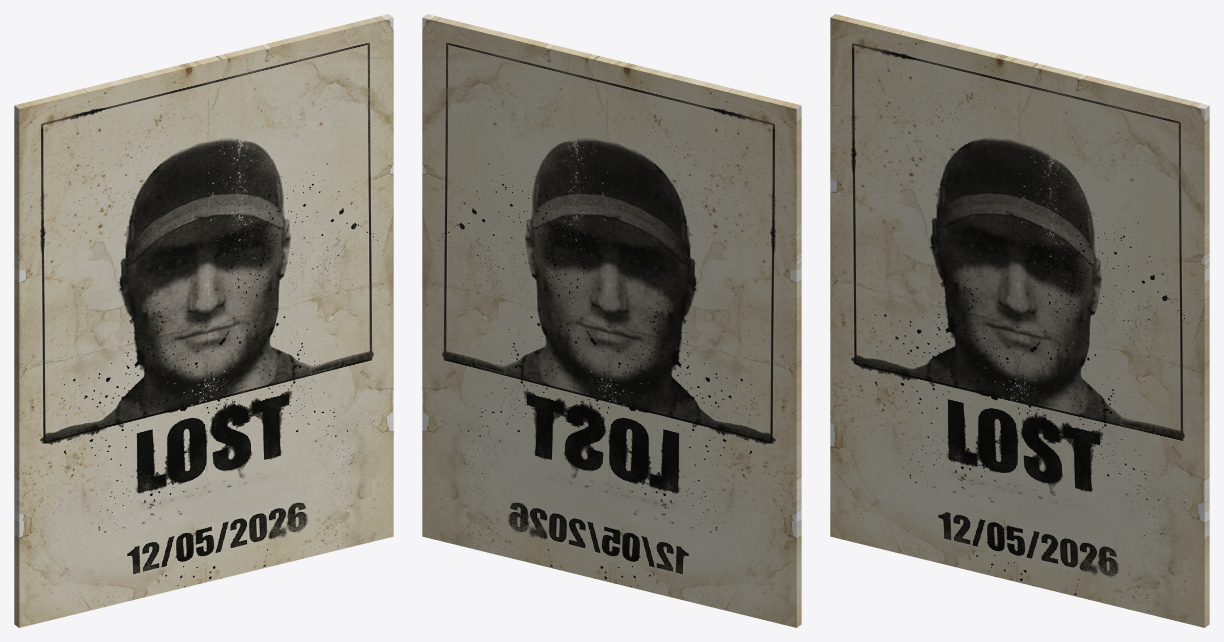
Rendered from Cartel de Desaparecido.fbx.
3 renders of one model, left to right at view 1: azimuth 30°, elevation 25°; view 2: azimuth 150°, elevation 25°; view 3: azimuth 330°, elevation 25°, orthographic.
Parts seen in each view (by area): view 1: Plane001; view 2: Plane001; view 3: Plane001.
Boxes of the visible parts, x1,y1,x2,y2 form: Plane001: (14, 14, 393, 627); Plane001: (422, 14, 801, 627); Plane001: (830, 14, 1209, 627).
Size of the model in its own units: 6.8 by 9 by 0.1572.
